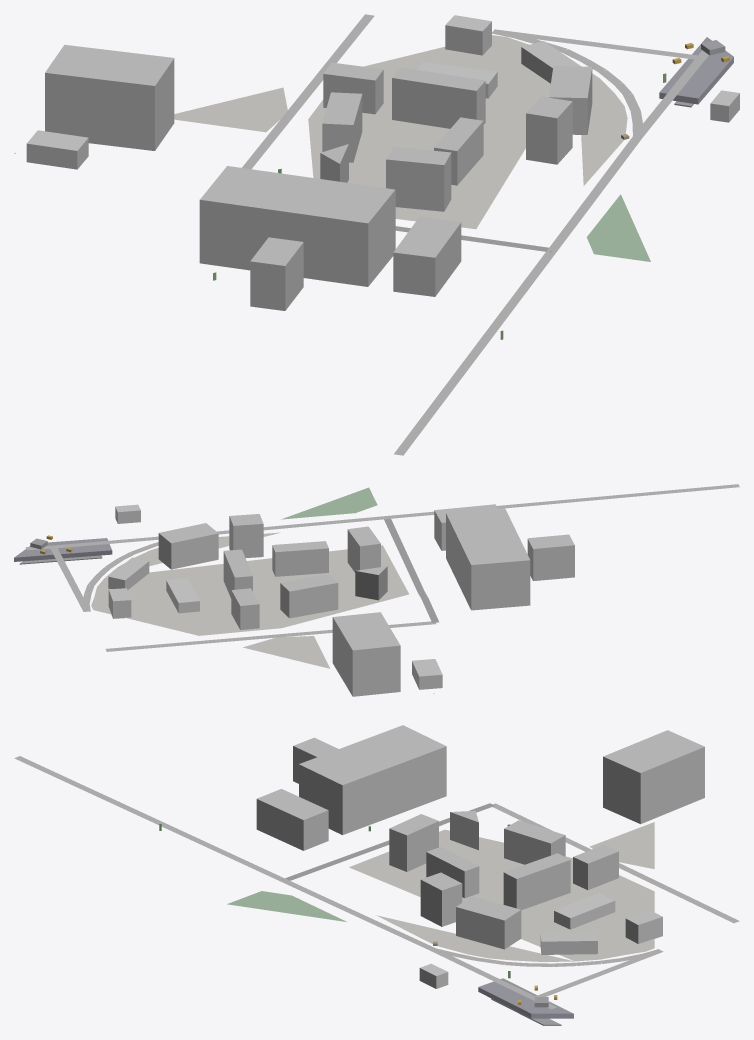
3 views of the same model, one above another, from view 1: azimuth 30°, elevation 25°; view 2: azimuth 150°, elevation 25°; view 3: azimuth 270°, elevation 25° (orthographic). The views are drawn at different scales.
Size of the model in its own units: 519 by 61.67 by 624.
